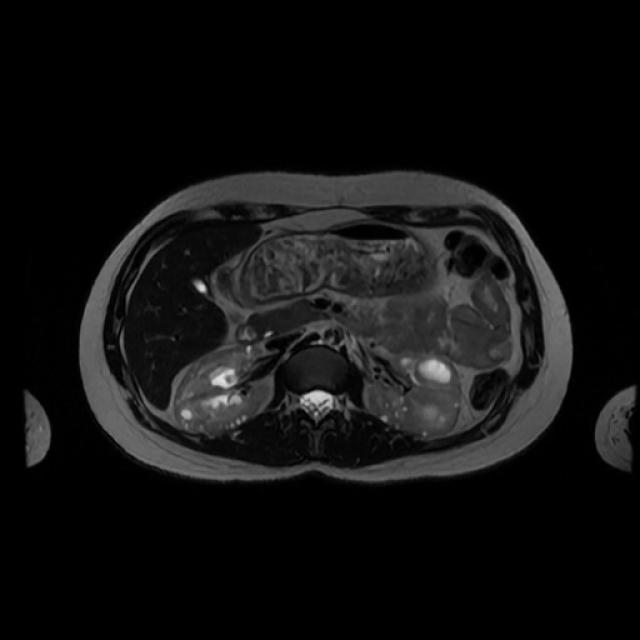sag: (172, 343, 272, 436)
sol: (364, 351, 462, 438)
